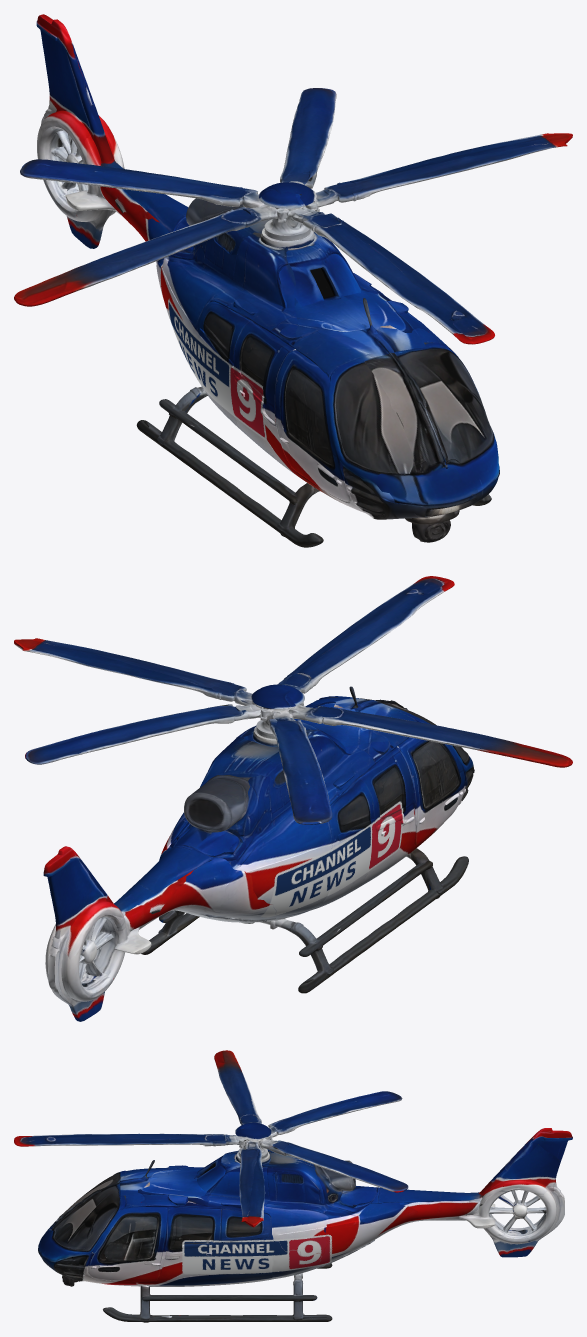
Rendered from reference-helicopter-2-v454.glb.
3 views of the same model, one above another, from view 1: azimuth 30°, elevation 25°; view 2: azimuth 150°, elevation 25°; view 3: azimuth 270°, elevation 25° (orthographic). The views are drawn at different scales.
Parts seen in each view (by area): view 1: model; view 2: model; view 3: model.
Boxes of the visible parts, x1=… form: model: x1=14, y1=14, x2=572, y2=547; model: x1=14, y1=576, x2=572, y2=1021; model: x1=14, y1=1050, x2=572, y2=1322.
Size of the model in its own units: 1.45 by 0.6321 by 1.9.
1 material, 1 textured.
